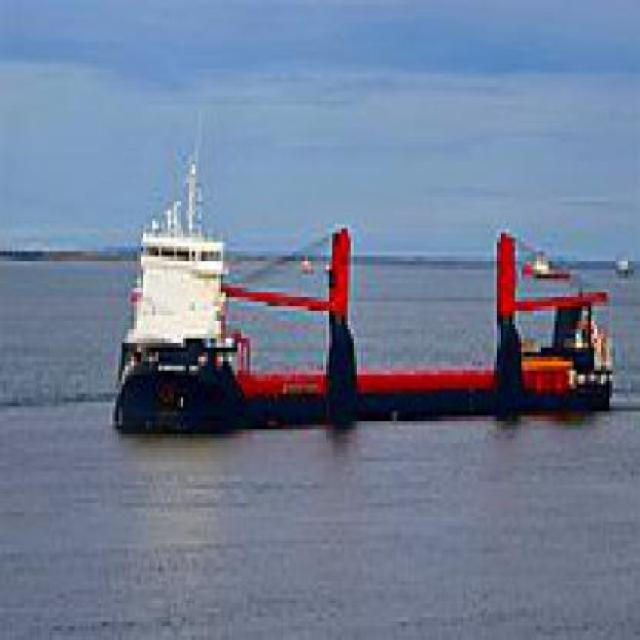container: (104, 111, 632, 445)
